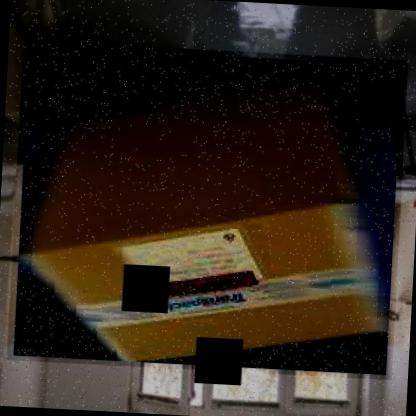box: (6, 40, 408, 380)
